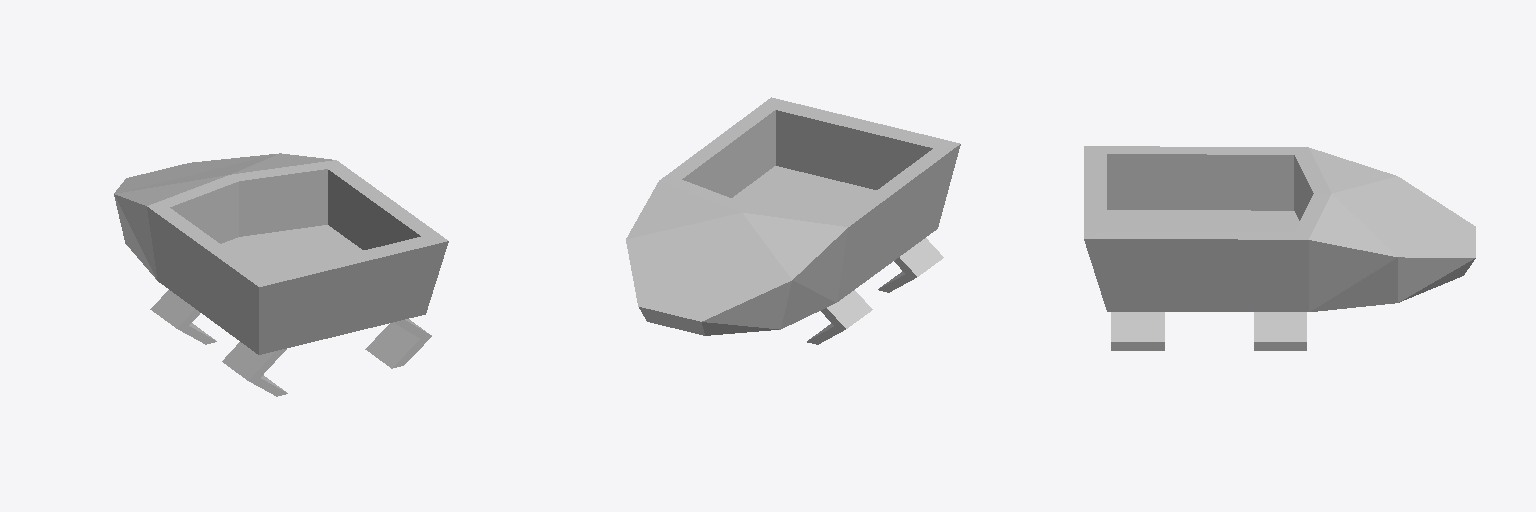
File: coaster.obj
3 views of the same model, side by side, from view 1: azimuth 30°, elevation 25°; view 2: azimuth 150°, elevation 25°; view 3: azimuth 270°, elevation 25° (orthographic).
Visible parts, largest first — view 1: Cube; view 2: Cube; view 3: Cube.
Boxes of the visible parts, x1=… form: Cube: x1=114, y1=153, x2=448, y2=396; Cube: x1=626, y1=97, x2=960, y2=344; Cube: x1=1084, y1=146, x2=1475, y2=350.
Size of the model in its own units: 1.36 by 0.8731 by 2.44.